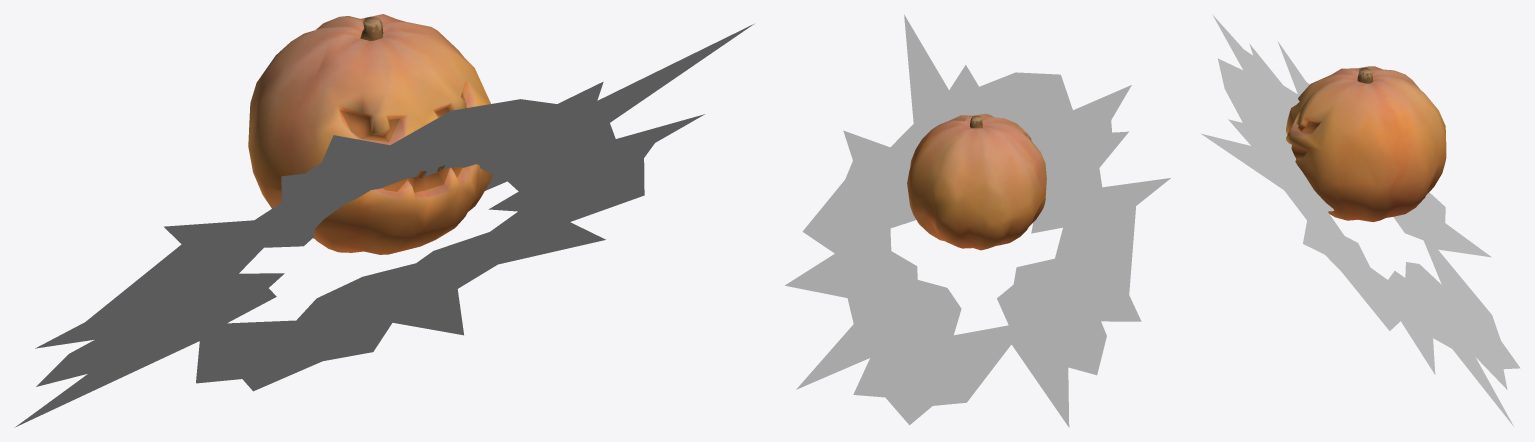
The model's file is pref_fx_HalloweenPumpkin_spell01_hit_lv2.fbx.
3 views of the same model, side by side, from view 1: azimuth 30°, elevation 25°; view 2: azimuth 150°, elevation 25°; view 3: azimuth 270°, elevation 25° (orthographic). The views are drawn at different scales.
Visible parts, largest first — view 1: sm_ring, sm_ng; view 2: sm_ring, sm_ng; view 3: sm_ring, sm_ng.
Boxes of the visible parts, bbox=[...] form: sm_ring: bbox=[15, 24, 753, 427]; sm_ng: bbox=[248, 14, 492, 254]; sm_ring: bbox=[785, 14, 1170, 427]; sm_ng: bbox=[907, 113, 1046, 250]; sm_ring: bbox=[1201, 14, 1520, 426]; sm_ng: bbox=[1286, 66, 1446, 221].
Size of what is drawn, in the model's own units: 5.71 by 4.38 by 4.02.
2 materials, 1 textured.
